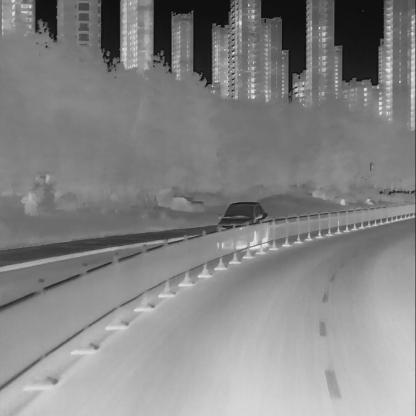car: (213, 199, 269, 254)
